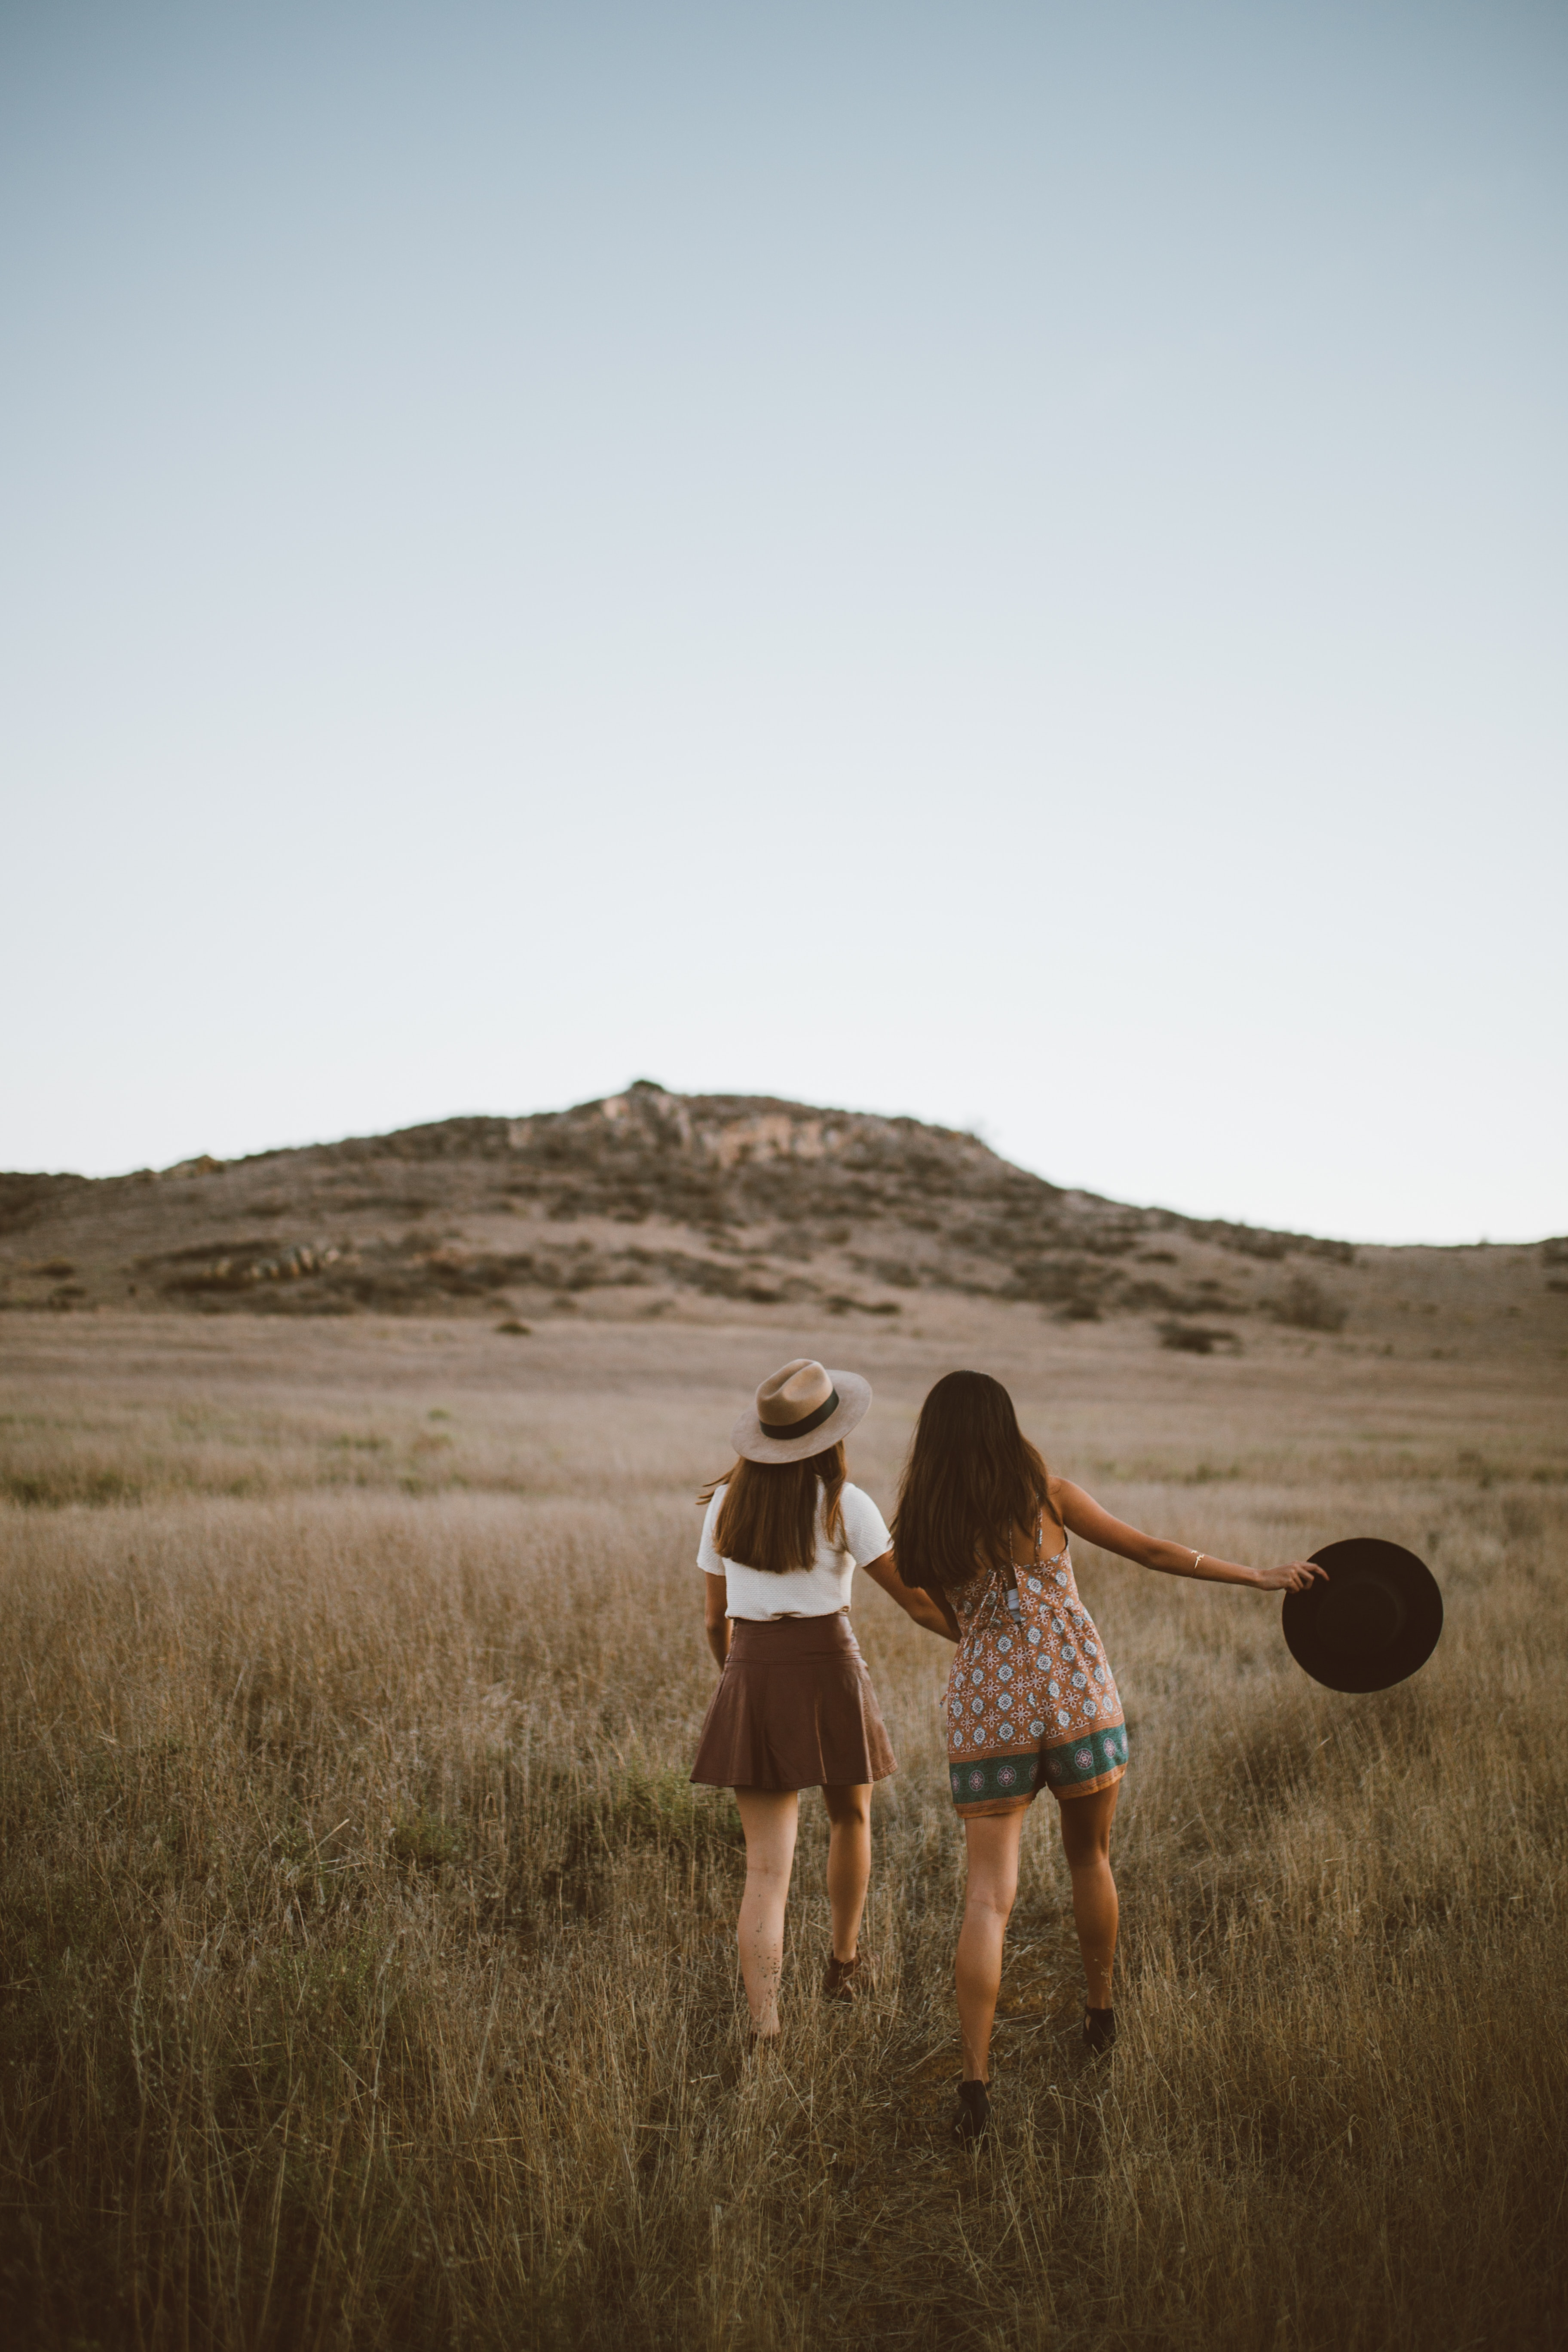person: (882, 1362, 1331, 2150), (686, 1347, 901, 2061)
